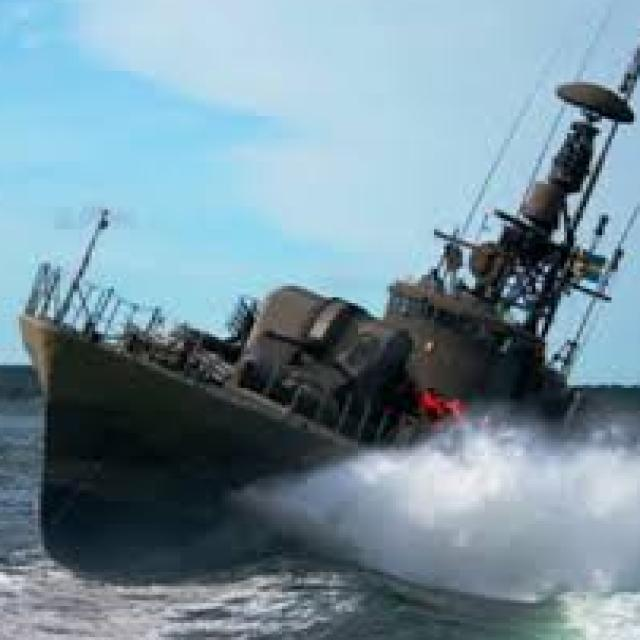navalvessels: (7, 14, 610, 566)
